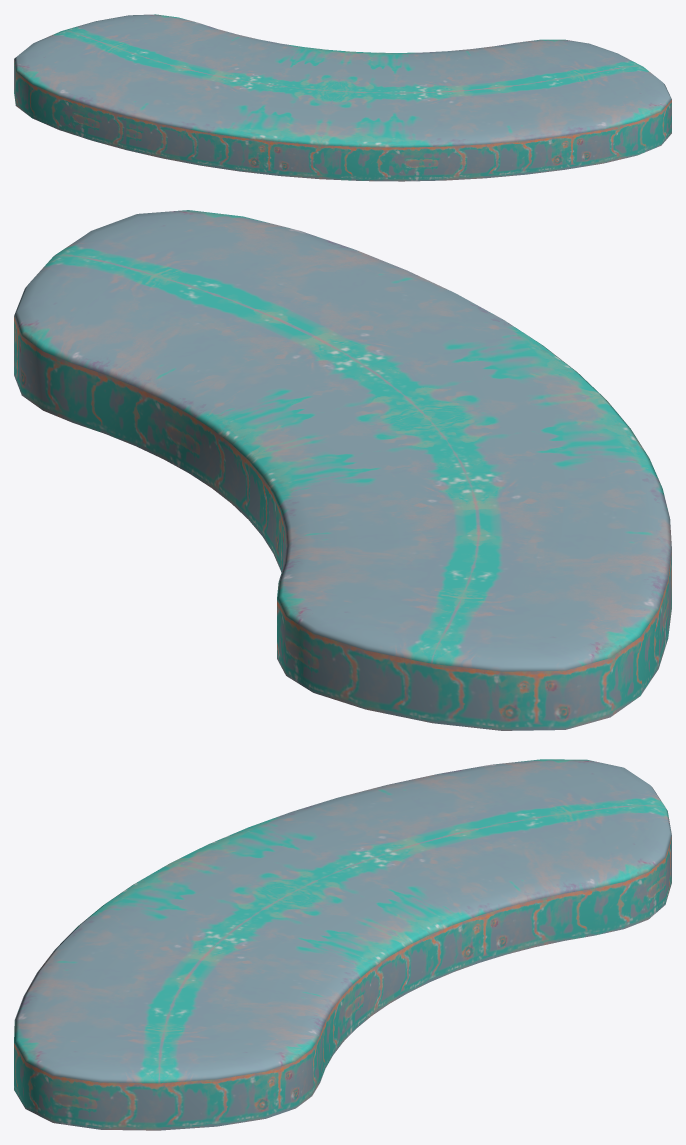
Rendered from platform_gas.fbx.
3 renders of one model, top to bottom at view 1: azimuth 30°, elevation 25°; view 2: azimuth 150°, elevation 25°; view 3: azimuth 270°, elevation 25°, orthographic. The views are drawn at different scales.
Parts seen in each view (by area): view 1: pCylinder10; view 2: pCylinder10; view 3: pCylinder10.
Boxes of the visible parts, x1,y1,x2,y2 form: pCylinder10: [14, 14, 671, 181]; pCylinder10: [14, 210, 671, 730]; pCylinder10: [14, 759, 671, 1130].
Bounding box in the file's own units: 754 × 62.94 × 650.
